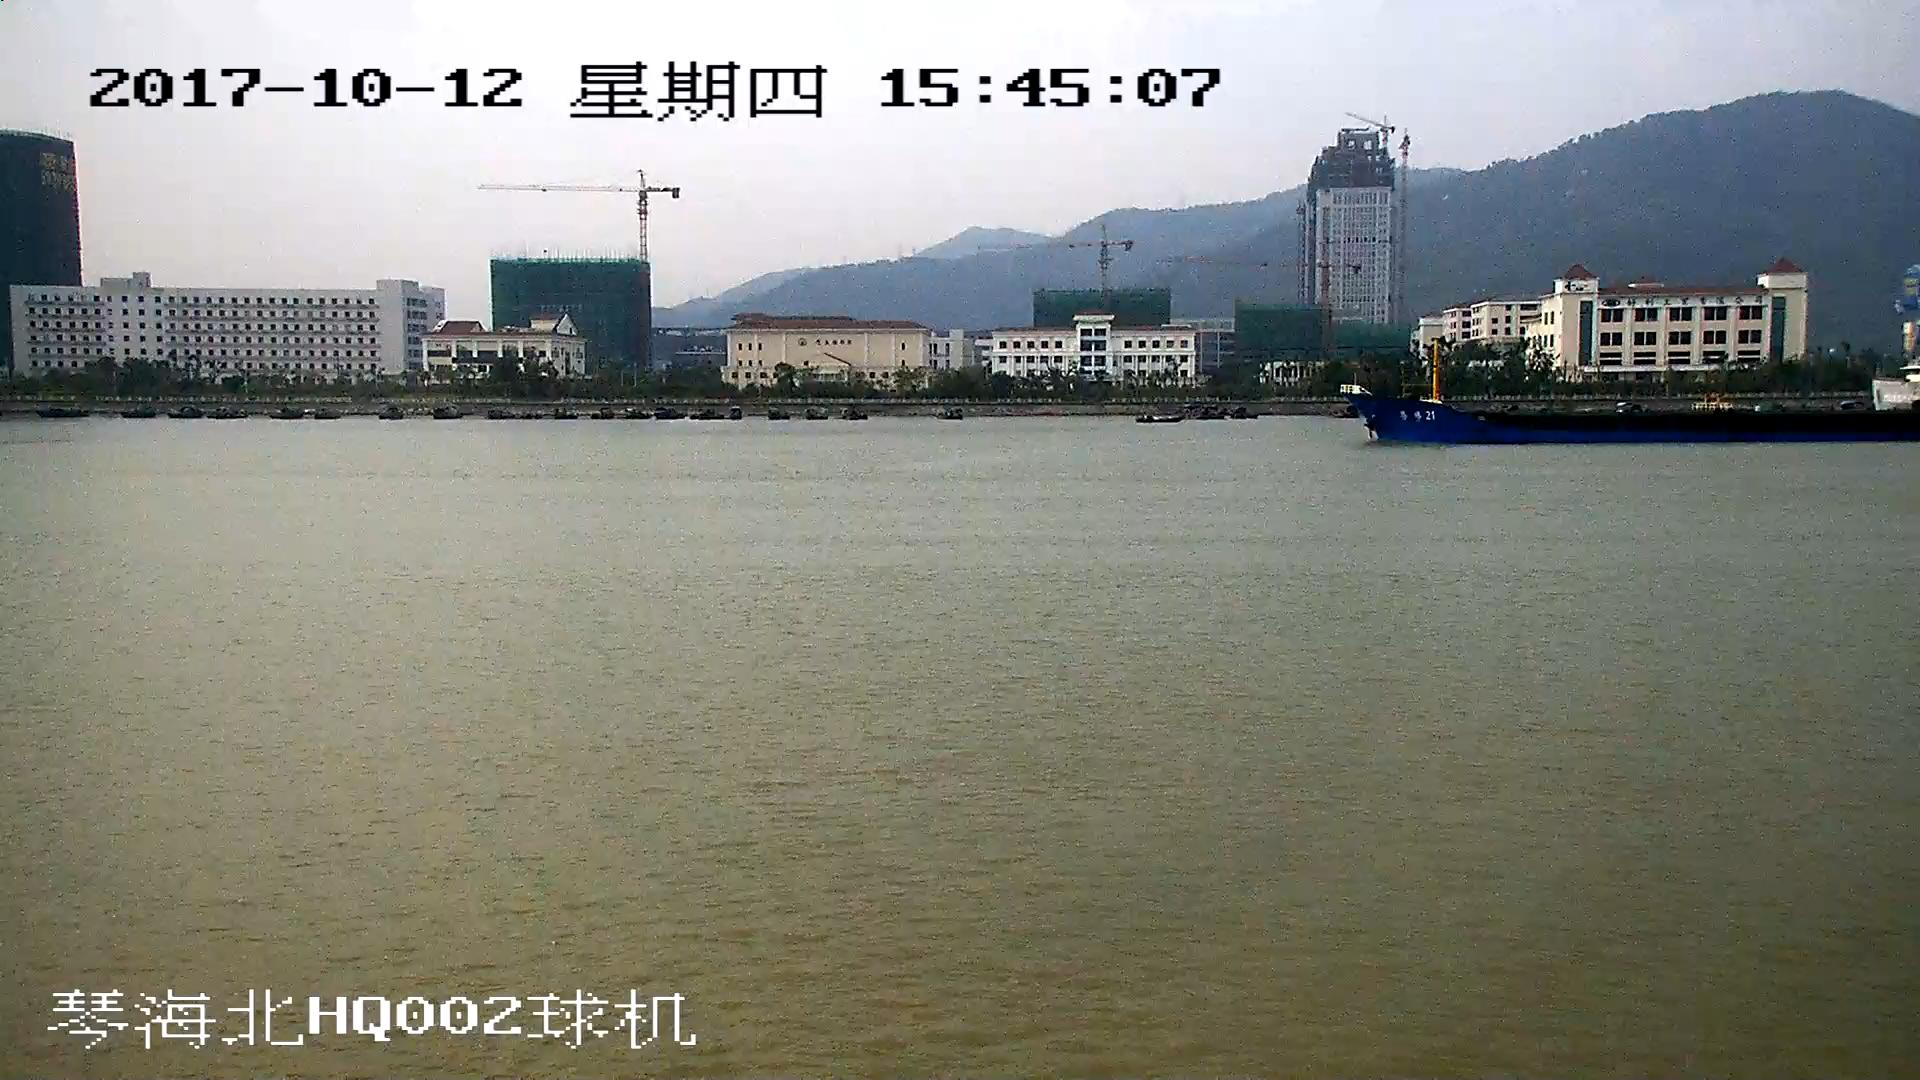general cargo ship: (1346, 376, 1920, 448)
